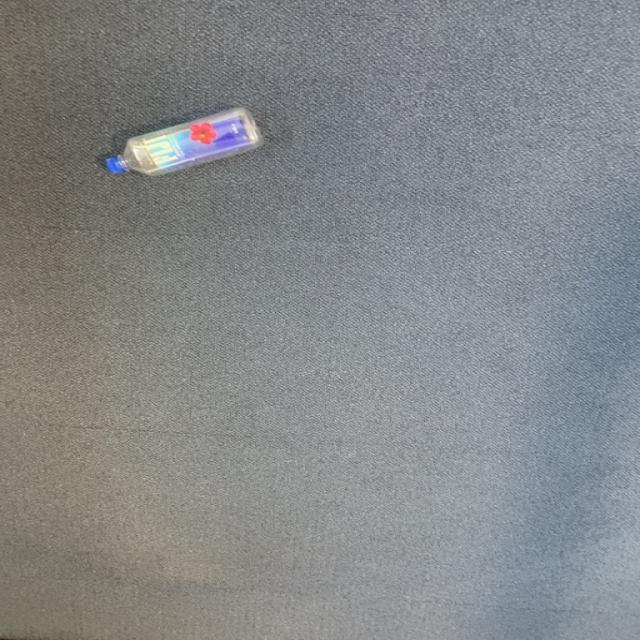Waste: (105, 107, 262, 175)
